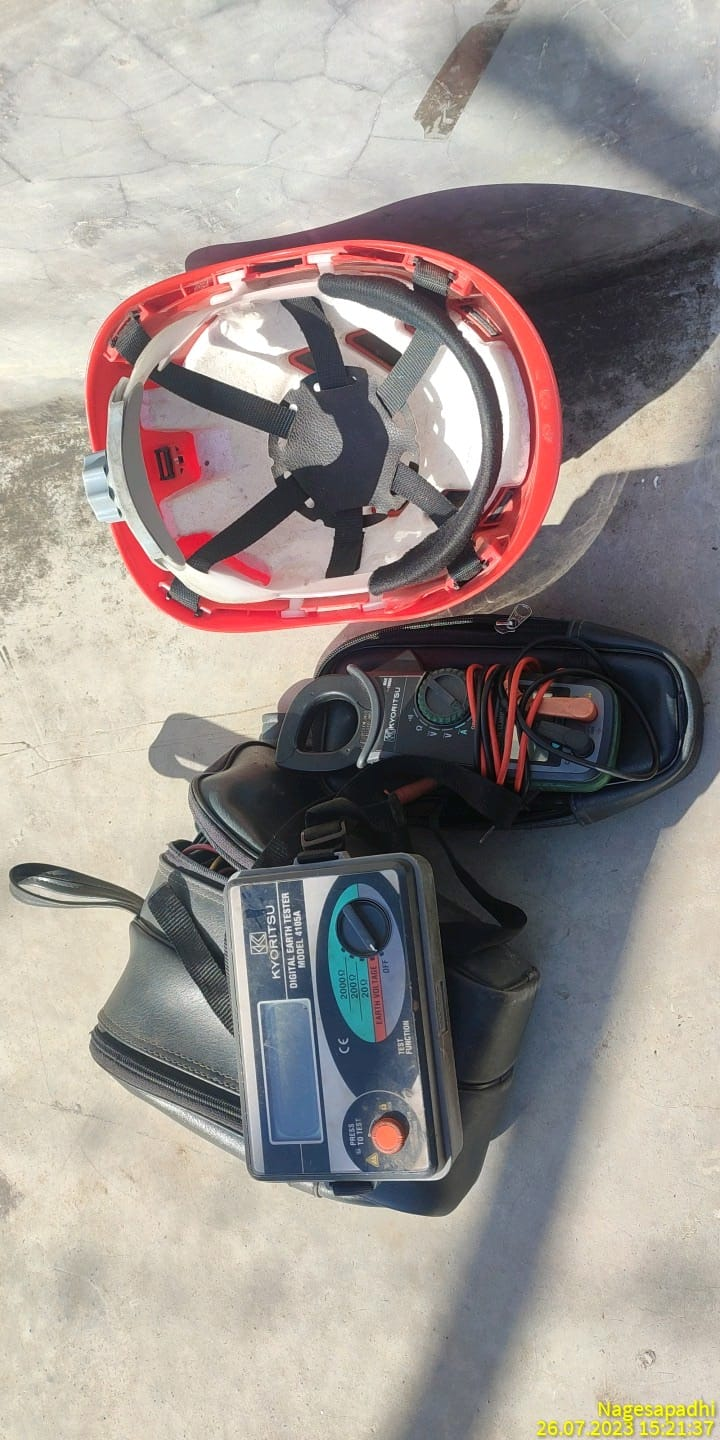EARTH_GROUNDING_TESTER: (223, 849, 466, 1184)
TANG_AMPERE: (275, 648, 614, 792)
